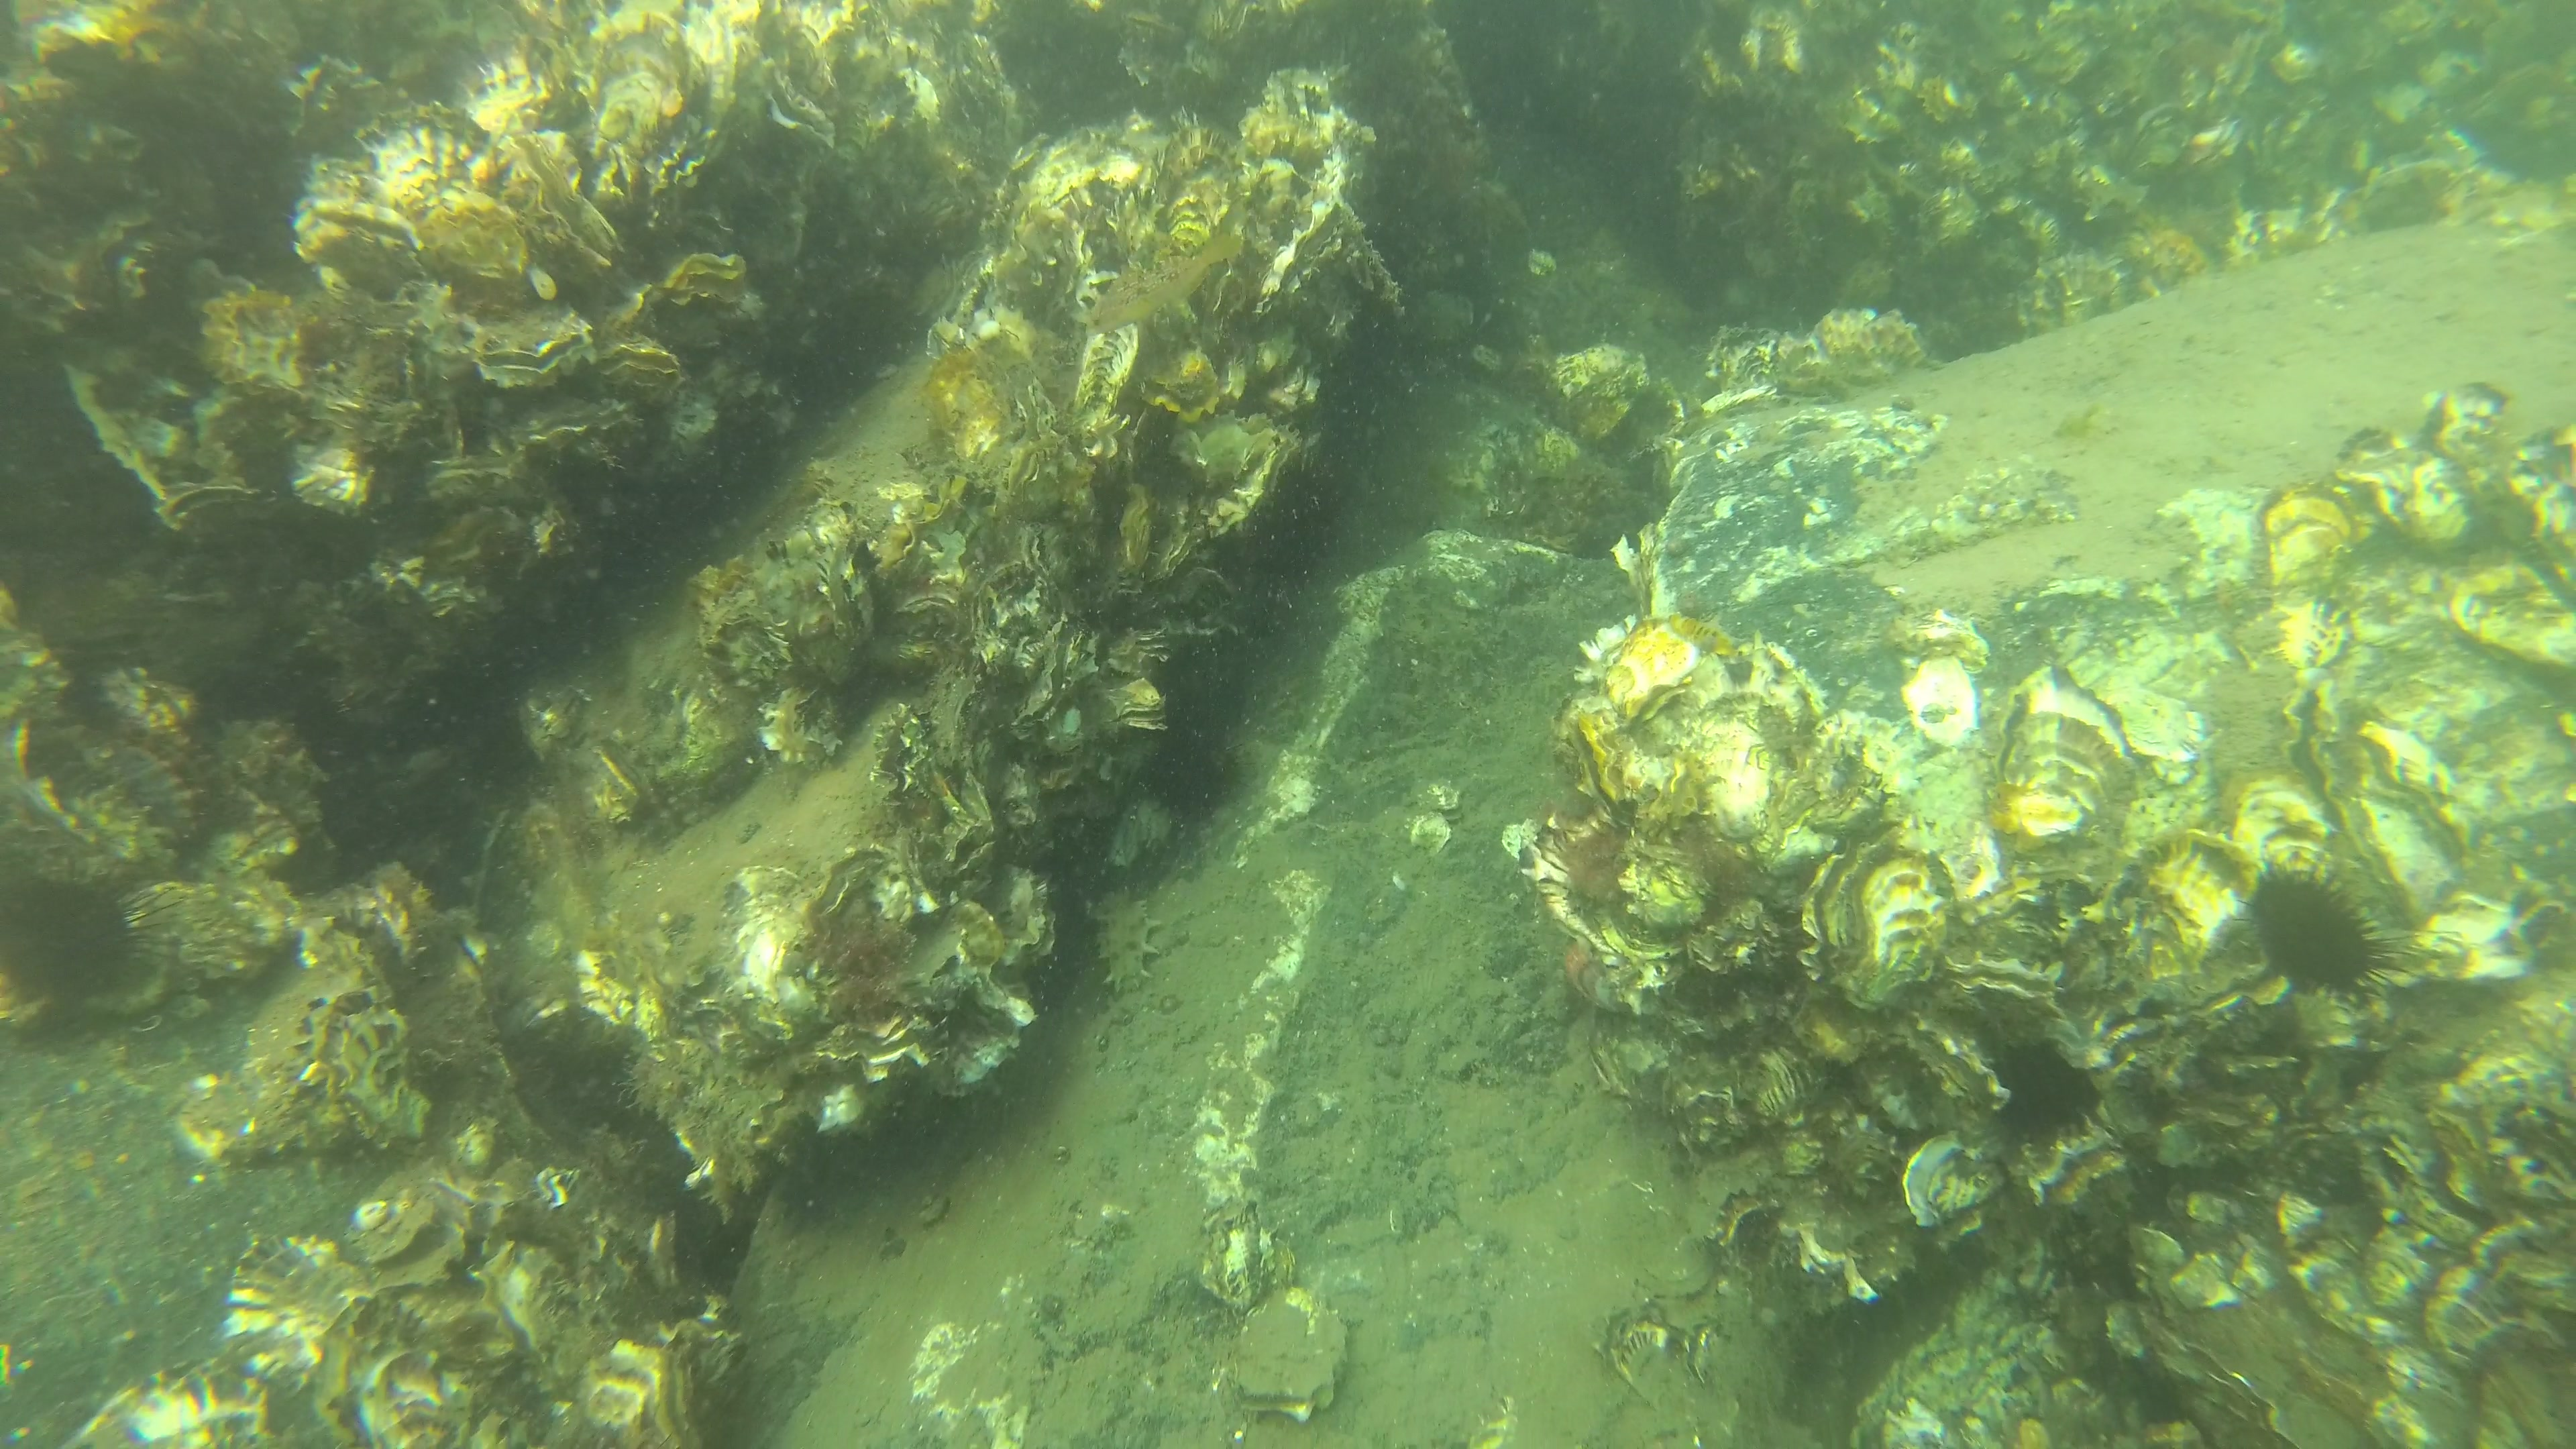echinus: (2243, 860, 2399, 1008), (0, 865, 156, 1007), (1989, 1035, 2107, 1148), (1136, 734, 1246, 830), (1249, 492, 1334, 577), (1159, 667, 1242, 738)
